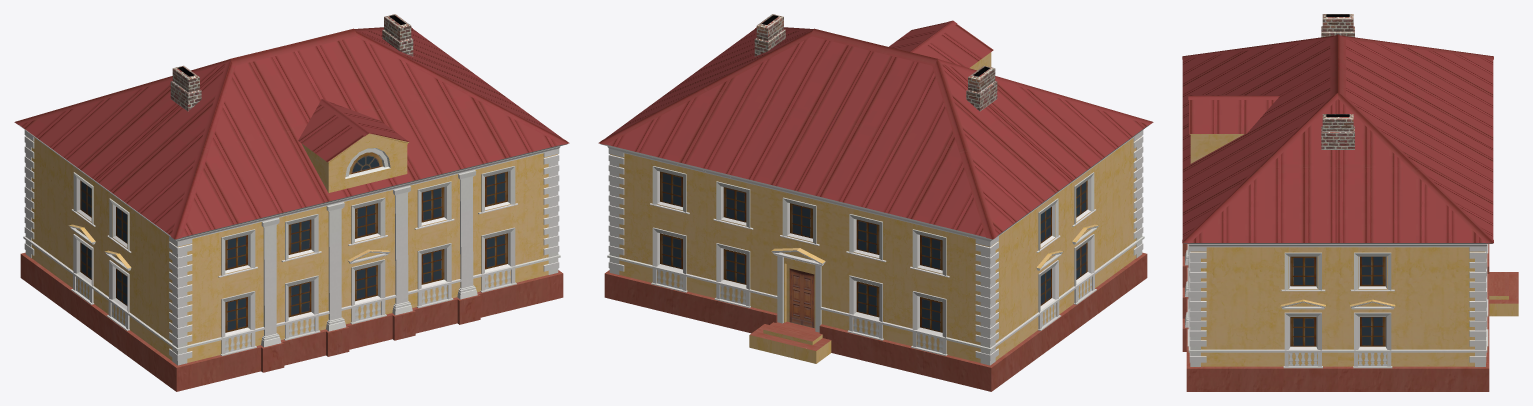
Rendered from european-building.fbx.
The picture shows the model from 3 angles, left to right: view 1: azimuth 30°, elevation 25°; view 2: azimuth 150°, elevation 25°; view 3: azimuth 270°, elevation 25°; orthographic projection. The views are drawn at different scales.
Visible parts, largest first — view 1: 1-203-122-rich1950_0_1, 1-203-122-rich1950_0_2; view 2: 1-203-122-rich1950_0_1, 1-203-122-rich1950_0_2; view 3: 1-203-122-rich1950_0_1, 1-203-122-rich1950_0_2.
Part boxes in pixels (box(x1,y1,x2,y2)): 1-203-122-rich1950_0_1: box(14, 14, 569, 391); 1-203-122-rich1950_0_2: box(19, 28, 562, 320); 1-203-122-rich1950_0_1: box(598, 14, 1153, 391); 1-203-122-rich1950_0_2: box(605, 28, 1148, 363); 1-203-122-rich1950_0_1: box(1182, 14, 1518, 391); 1-203-122-rich1950_0_2: box(1182, 39, 1485, 253).
Size of the model in its own units: 22.58 by 13.33 by 17.17.
1 material, 1 textured.
